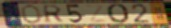2: (130, 3, 152, 24)
5: (65, 4, 84, 24)
O: (106, 3, 131, 24), (21, 4, 43, 24)
R: (42, 4, 65, 24)
Z: (84, 4, 110, 24)
